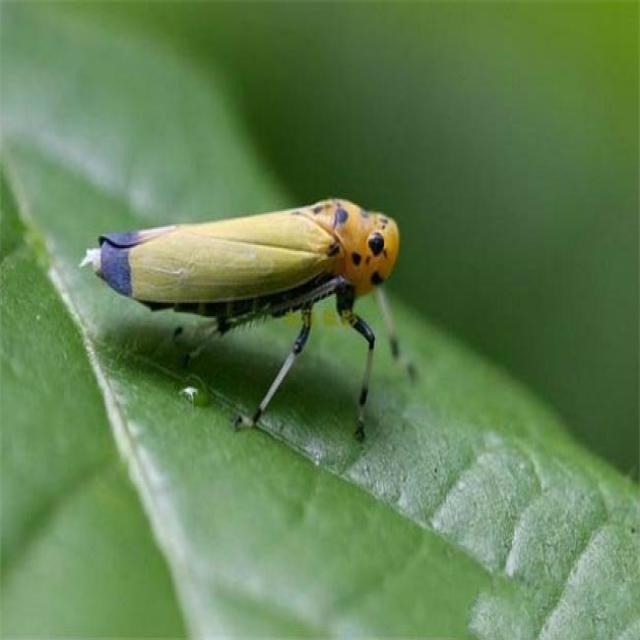Yechan: (80, 186, 420, 431)
